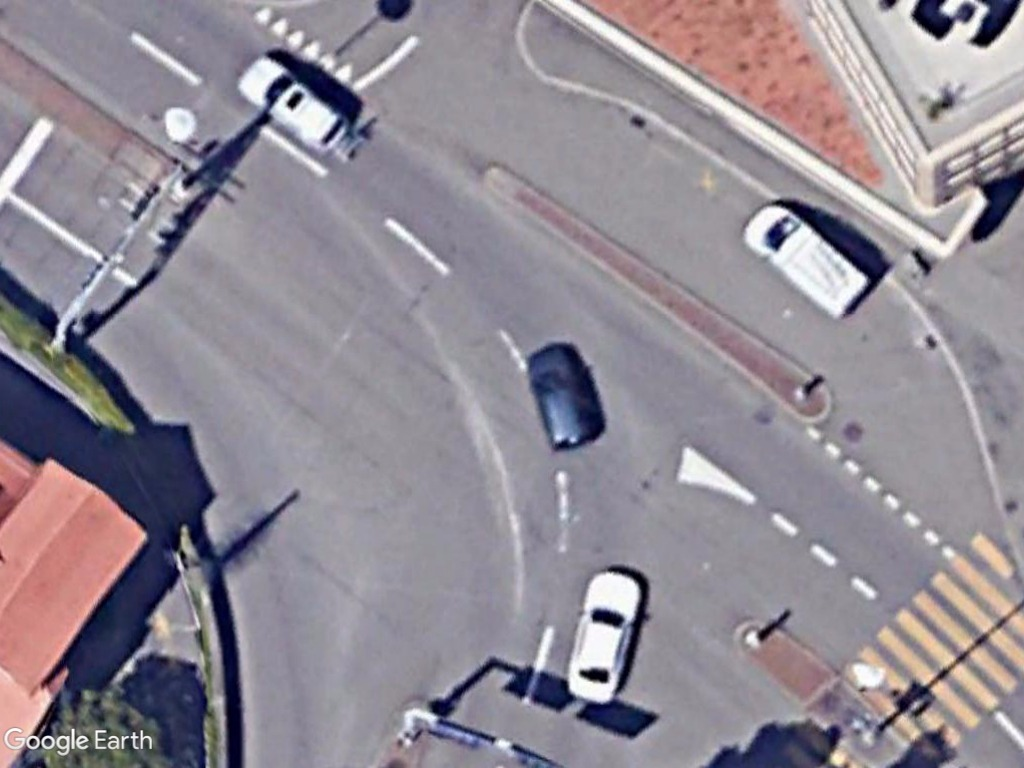car: (233, 53, 349, 154), (563, 567, 645, 707), (525, 341, 605, 453)
van: (737, 197, 872, 319)
